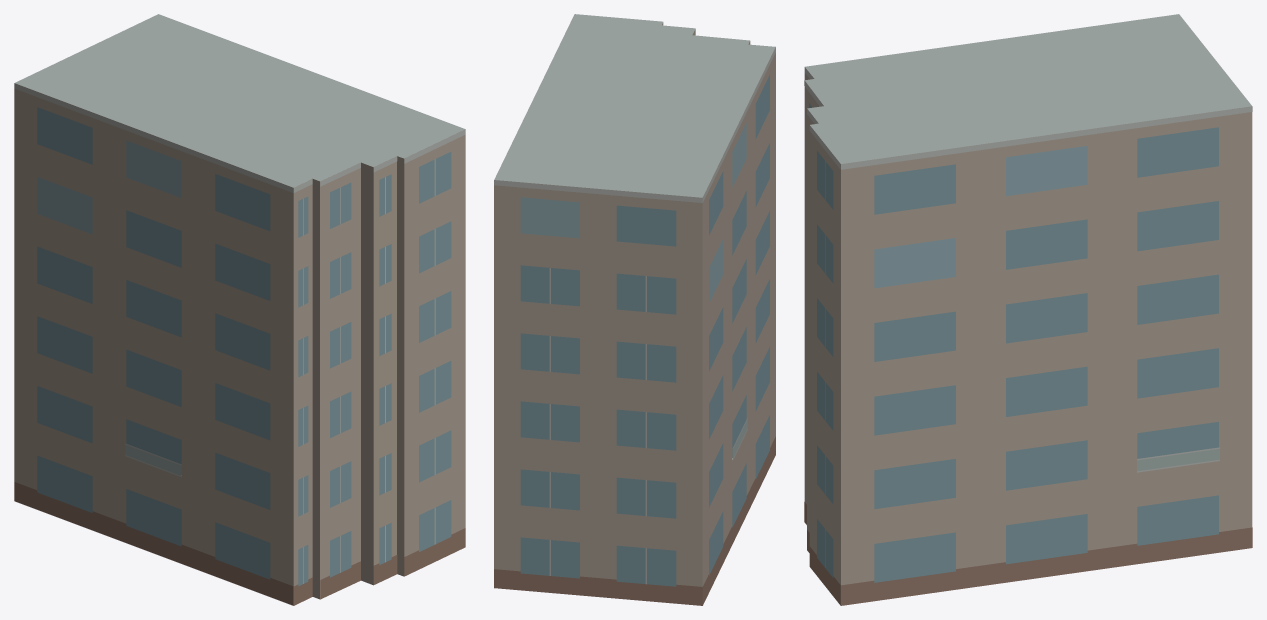
File: survey-upis-32978701.glb
3 views of the same model, side by side, from view 1: azimuth 30°, elevation 25°; view 2: azimuth 150°, elevation 25°; view 3: azimuth 270°, elevation 25° (orthographic). The views are drawn at different scales.
Parts seen in each view (by area): view 1: survey-upis-32978701.tmp; view 2: survey-upis-32978701.tmp; view 3: survey-upis-32978701.tmp.
Boxes of the visible parts, x1,y1,x2,y2 form: survey-upis-32978701.tmp: [14, 14, 465, 605]; survey-upis-32978701.tmp: [494, 14, 775, 605]; survey-upis-32978701.tmp: [804, 14, 1252, 605].
Bounding box in the file's own units: 13.86 × 19 × 17.47.
